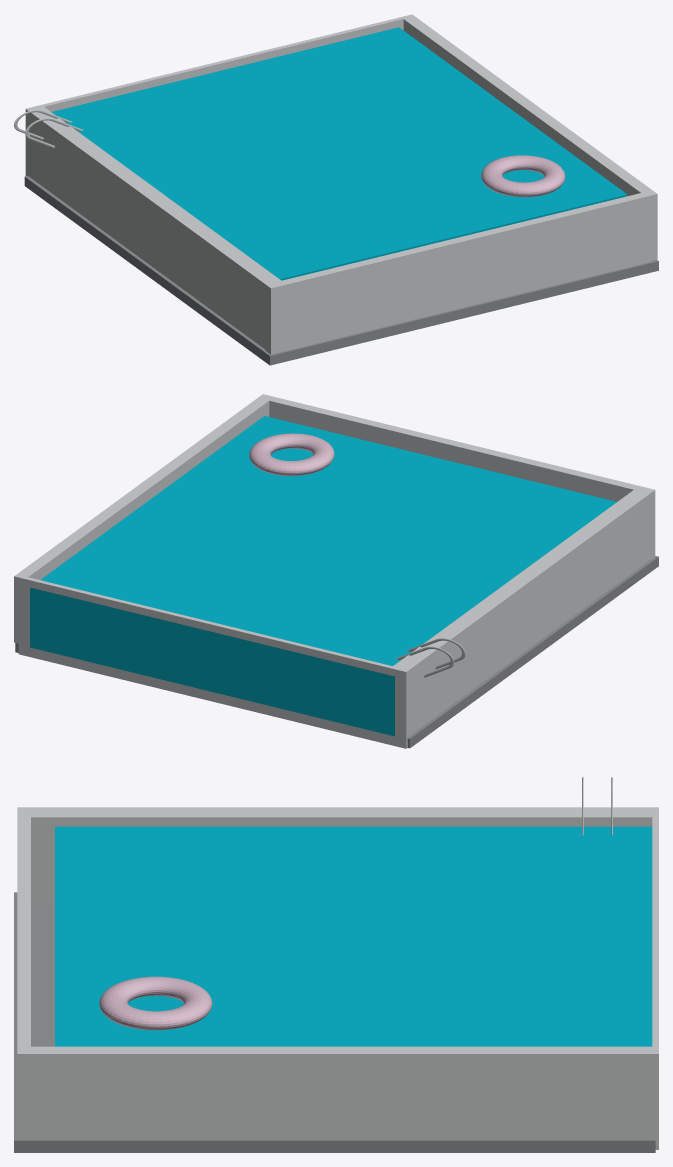
File: pool.glb
3 views of the same model, one above another, from view 1: azimuth 30°, elevation 25°; view 2: azimuth 150°, elevation 25°; view 3: azimuth 270°, elevation 25° (orthographic). The views are drawn at different scales.
Visible parts, largest first — view 1: Mesh_Mesh_head_geo.001_lambert2SG.001; view 2: Mesh_Mesh_head_geo.001_lambert2SG.001; view 3: Mesh_Mesh_head_geo.001_lambert2SG.001.
Part boxes in pixels (x1,y1,x2,y2): Mesh_Mesh_head_geo.001_lambert2SG.001: [14, 14, 658, 365]; Mesh_Mesh_head_geo.001_lambert2SG.001: [14, 394, 658, 748]; Mesh_Mesh_head_geo.001_lambert2SG.001: [14, 777, 658, 1152].
Size of the model in its own units: 0.184 by 0.038 by 0.189.
